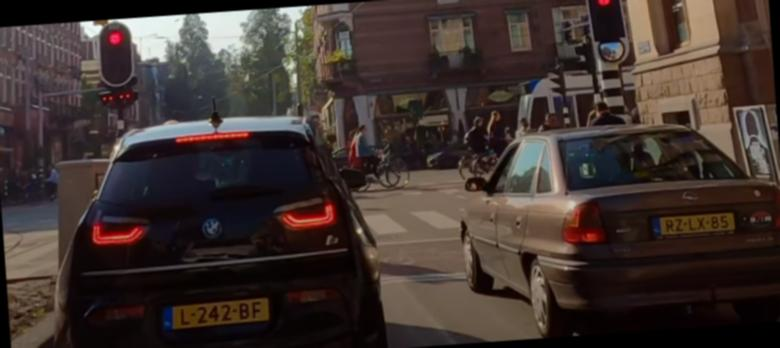license-plate: (164, 296, 272, 332), (651, 211, 740, 238)
